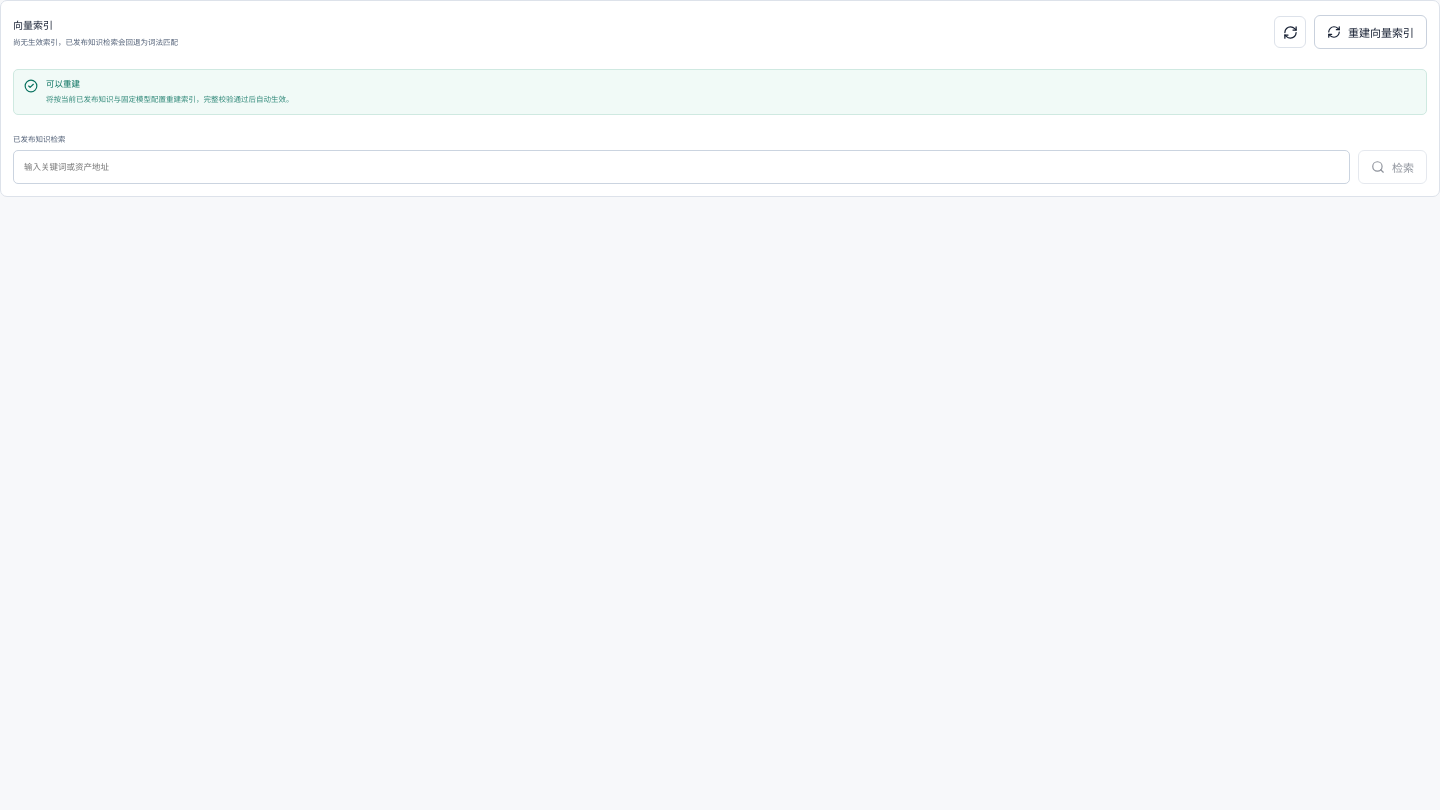
Test case: persistent embedding › traps confirmation focus and restores it on Escape
Click the button "重建向量索引" at (1370, 32), box [1314, 15, 1427, 49]
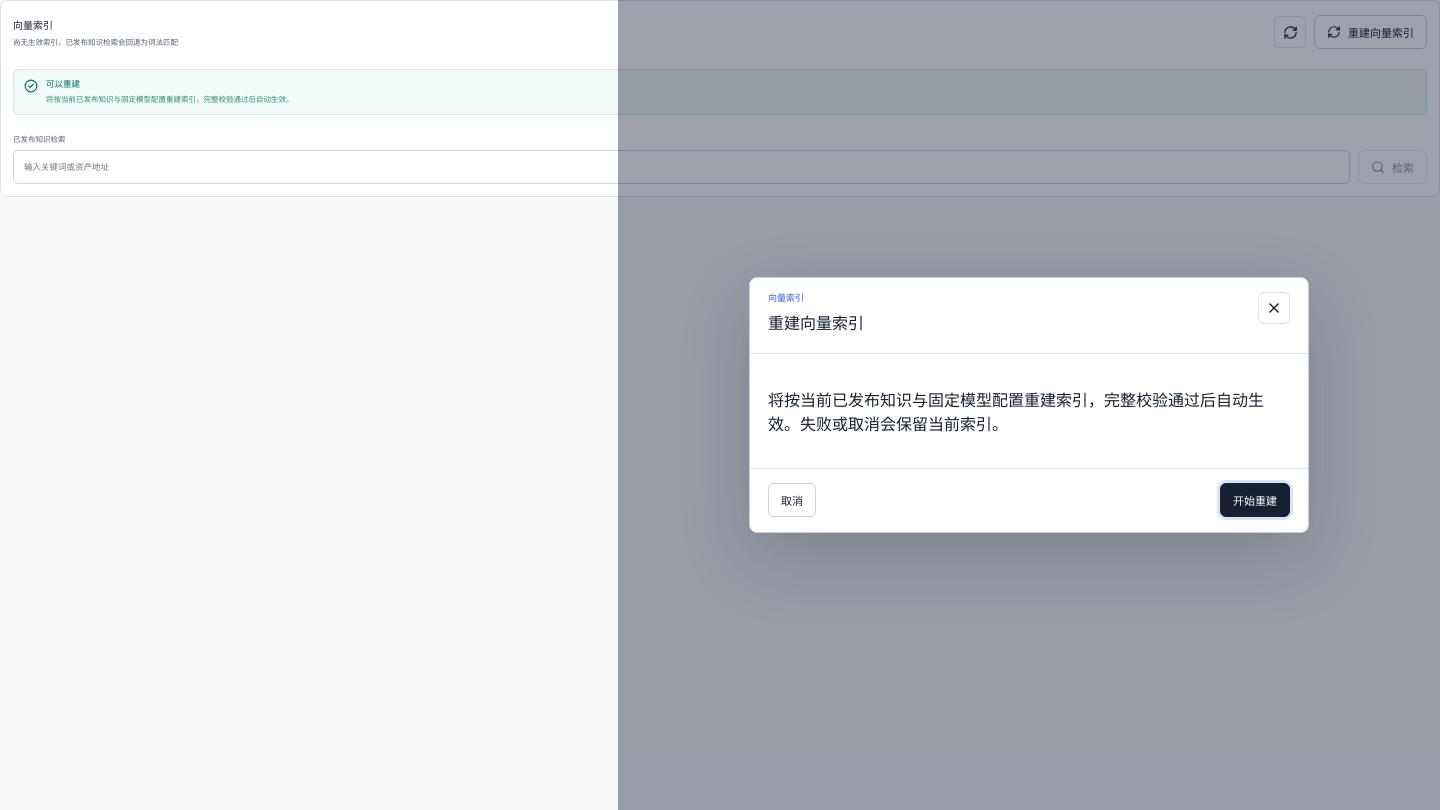
Press Tab
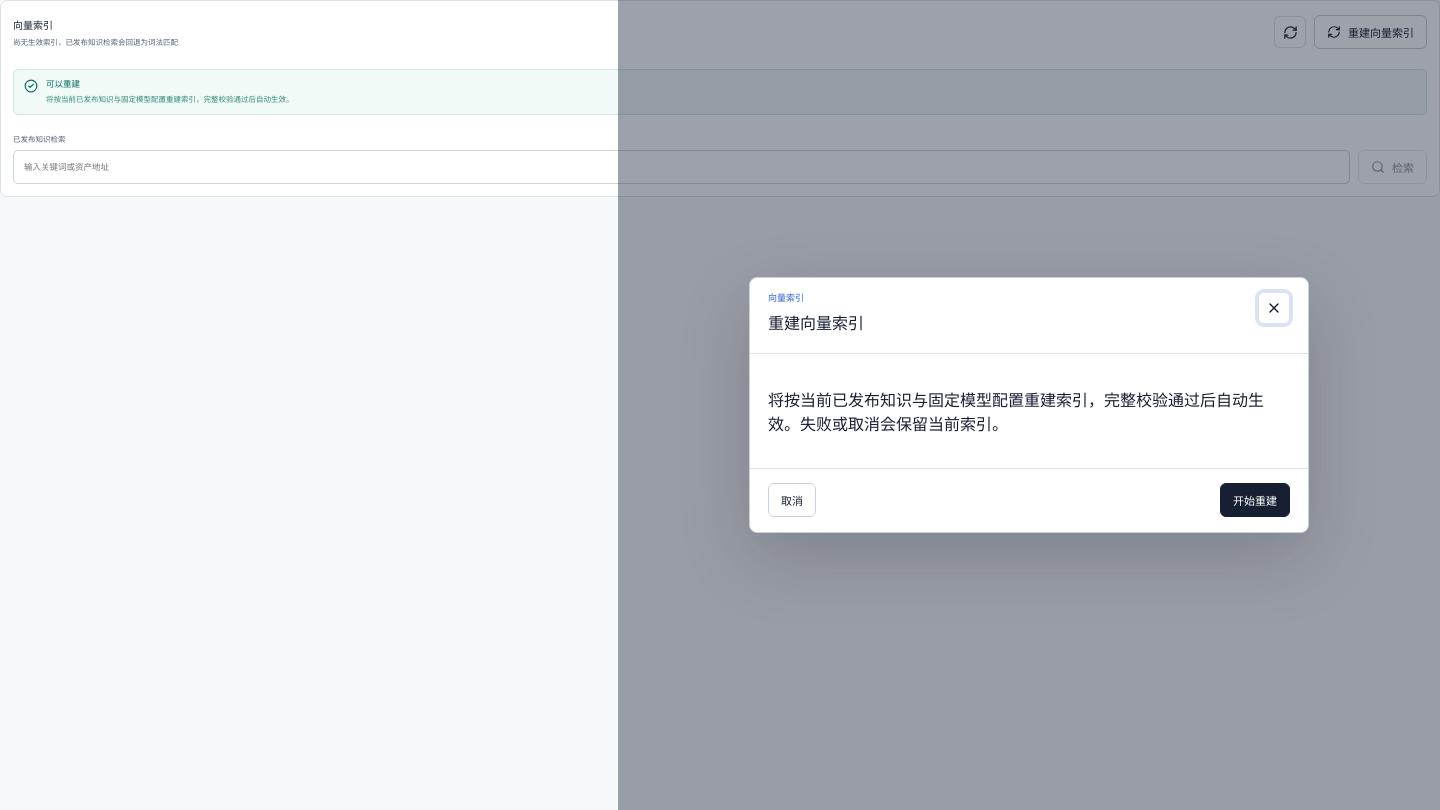
Press Shift+Tab
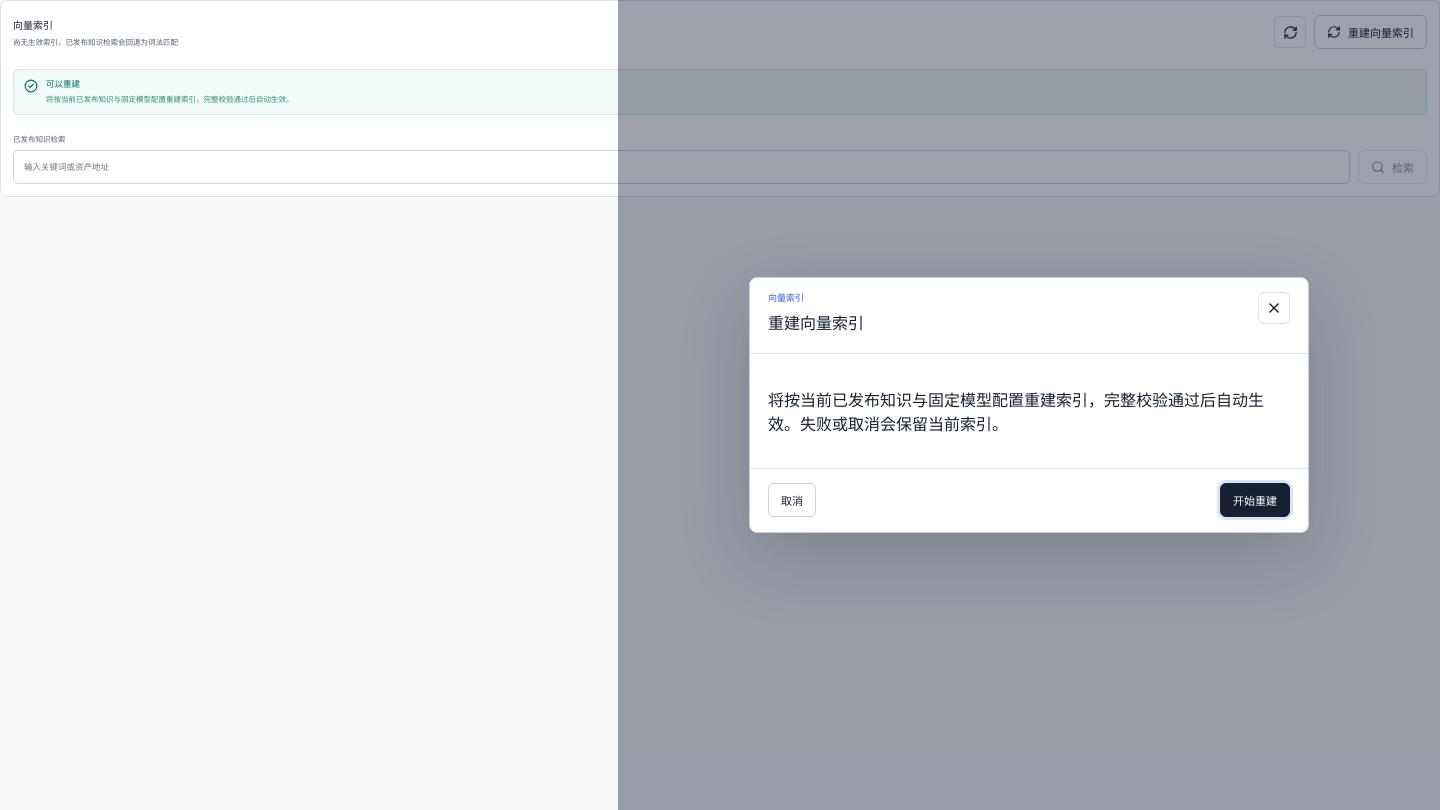
Press Escape
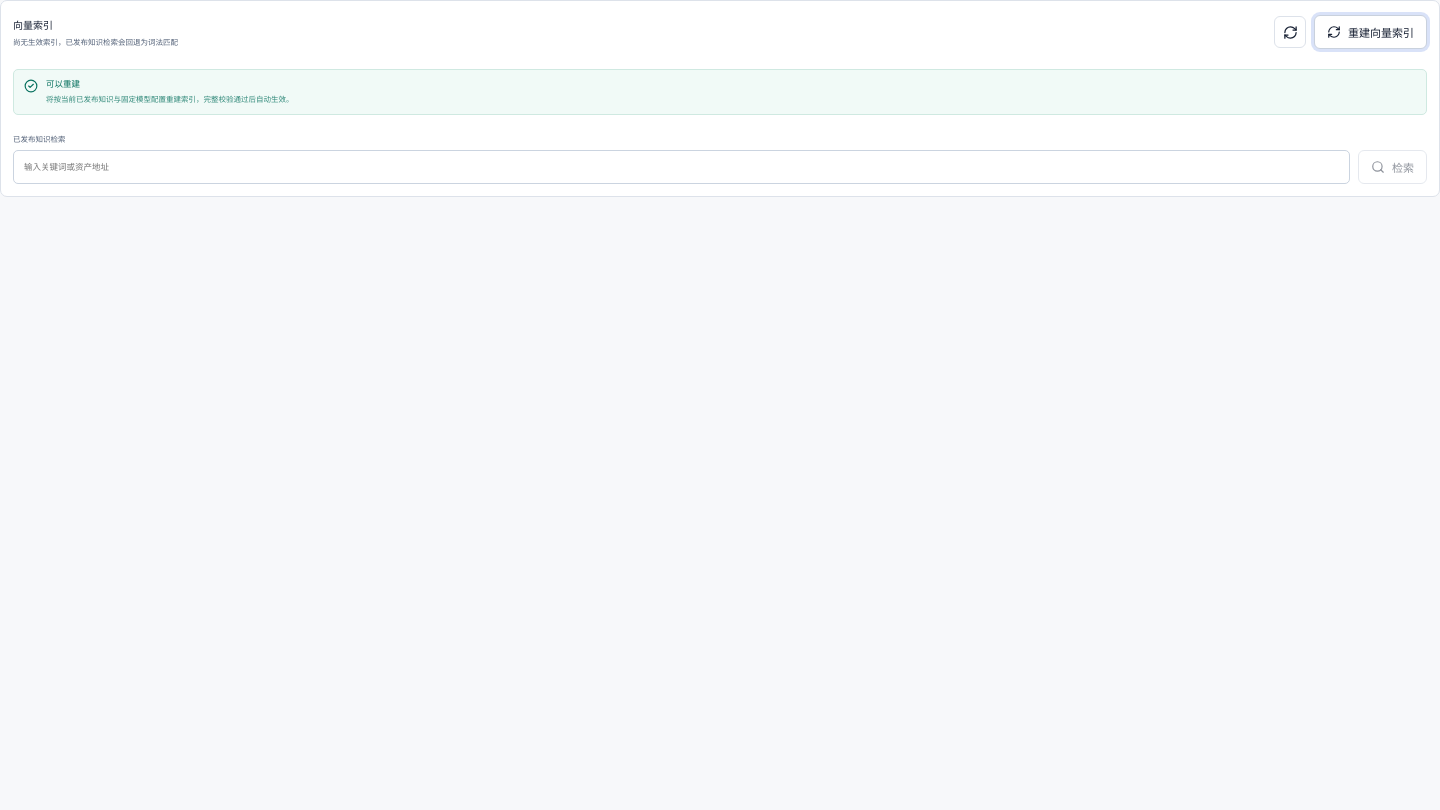
Result: the dialog is gone
